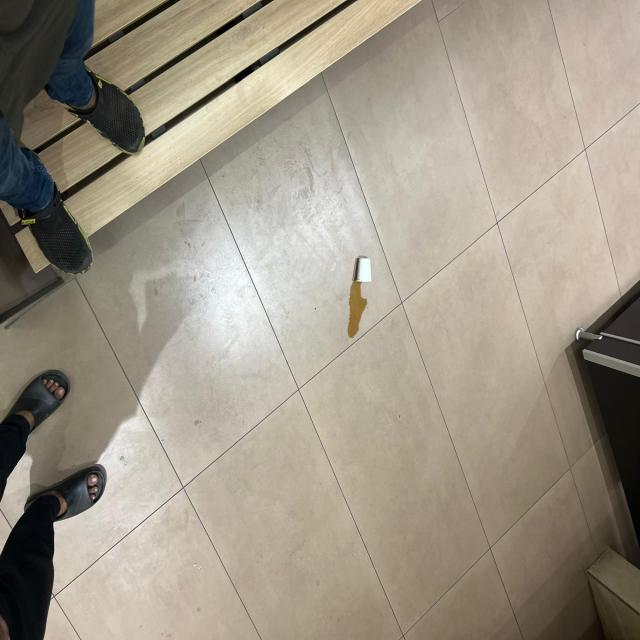cup: (357, 256, 373, 284)
spill: (349, 264, 368, 342)
